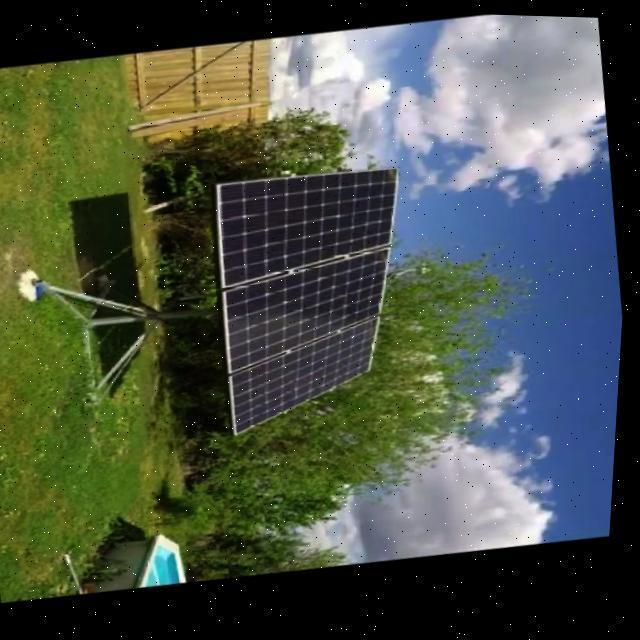Normal Solar Panel: (212, 157, 412, 290), (217, 240, 406, 374), (224, 310, 396, 434)
